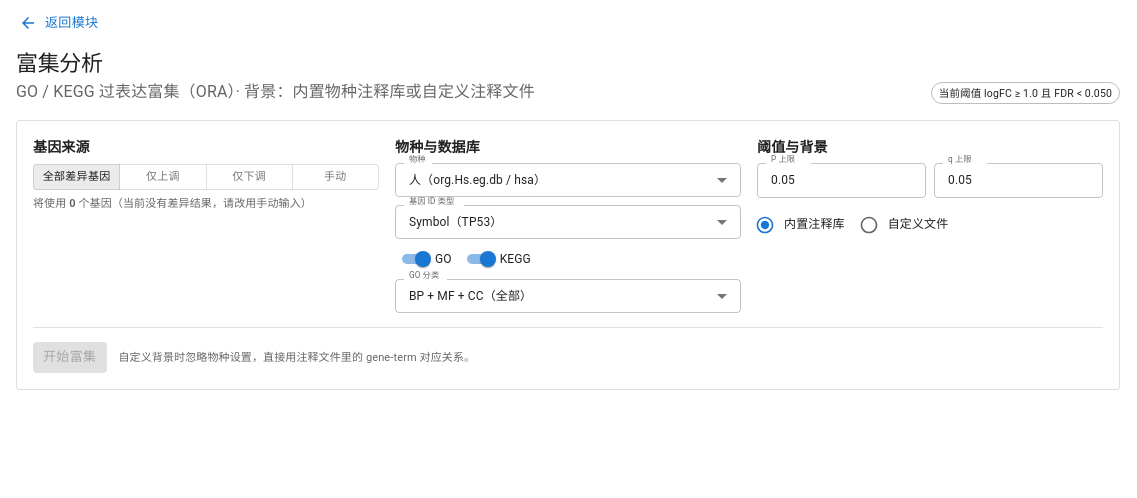
Test: EnrichPage 运行前校验 › 自定义背景没选注释文件时报「注释文件」，不是「数据库」
Click the button "手动" at (335, 177), box [292, 164, 379, 190]
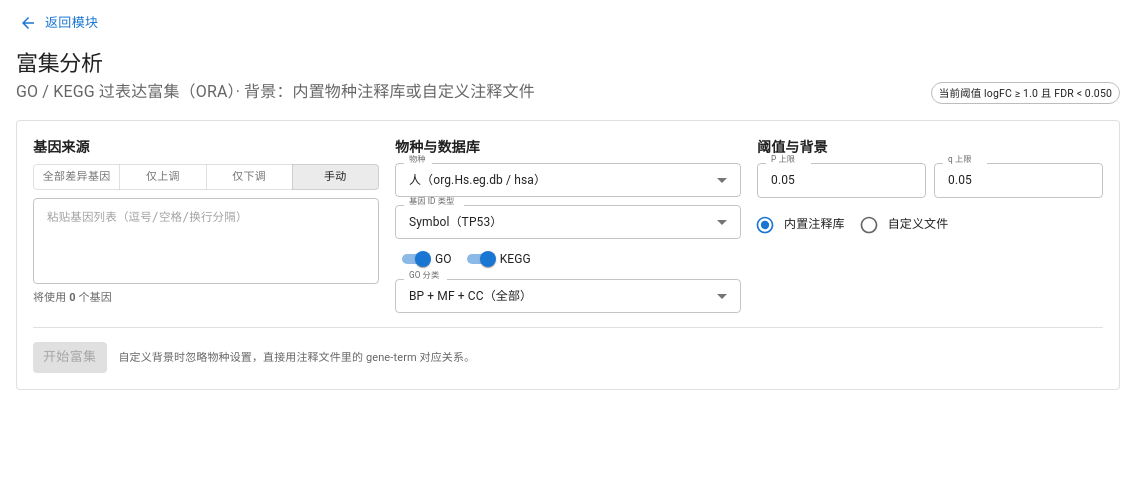
Type "TP53 EGFR MYC" into the text box with placeholder "粘贴基因列表（逗号/空格/换行分隔）" at (206, 241), box [47, 206, 365, 275]
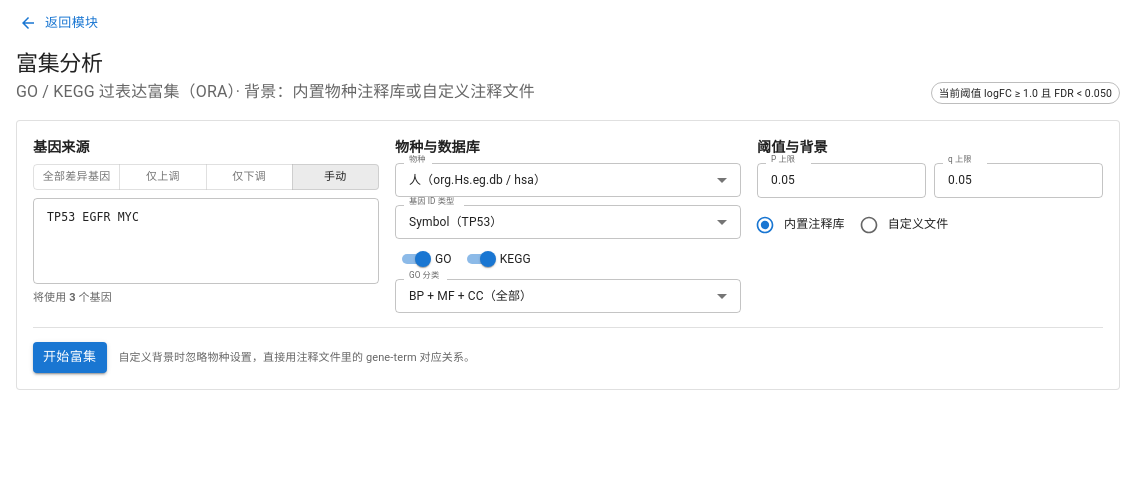
Click the radio button labelled "自定义文件" at (904, 225), box [859, 215, 948, 235]
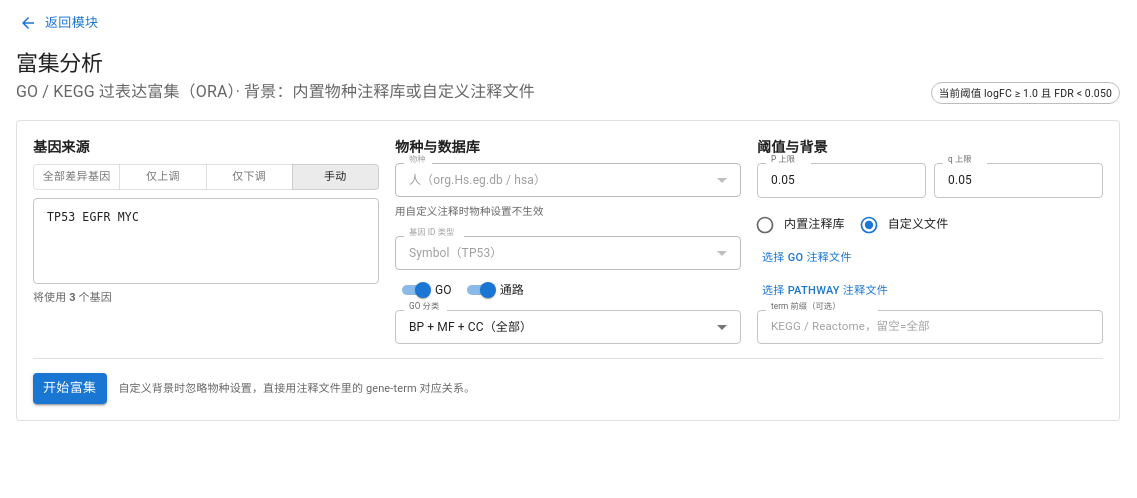
Click the button "开始富集" at (70, 388), box [33, 373, 106, 404]
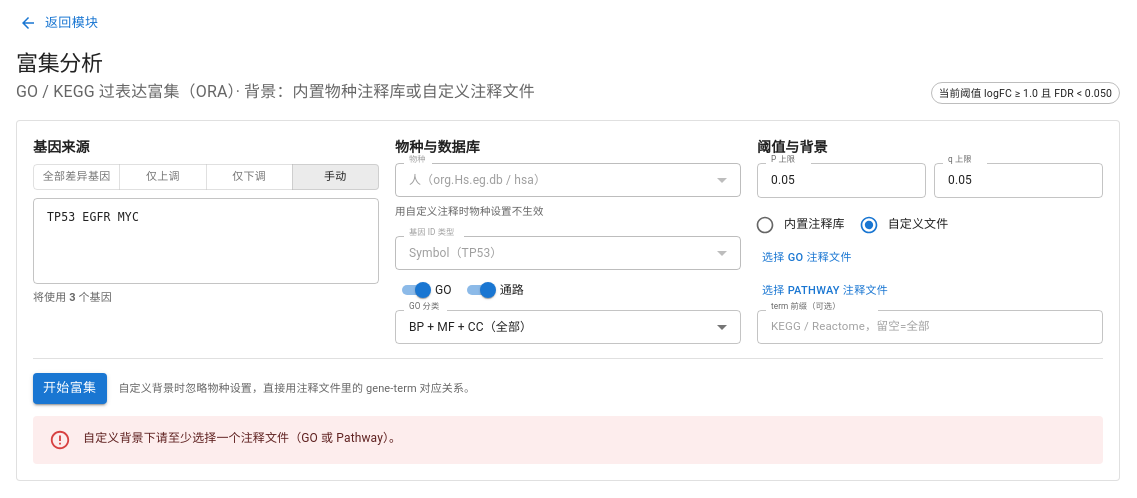
expect the text "自定义背景下请至少选择一个注释文件（GO 或 Pathway）。" is shown: met, box [83, 431, 401, 445]
